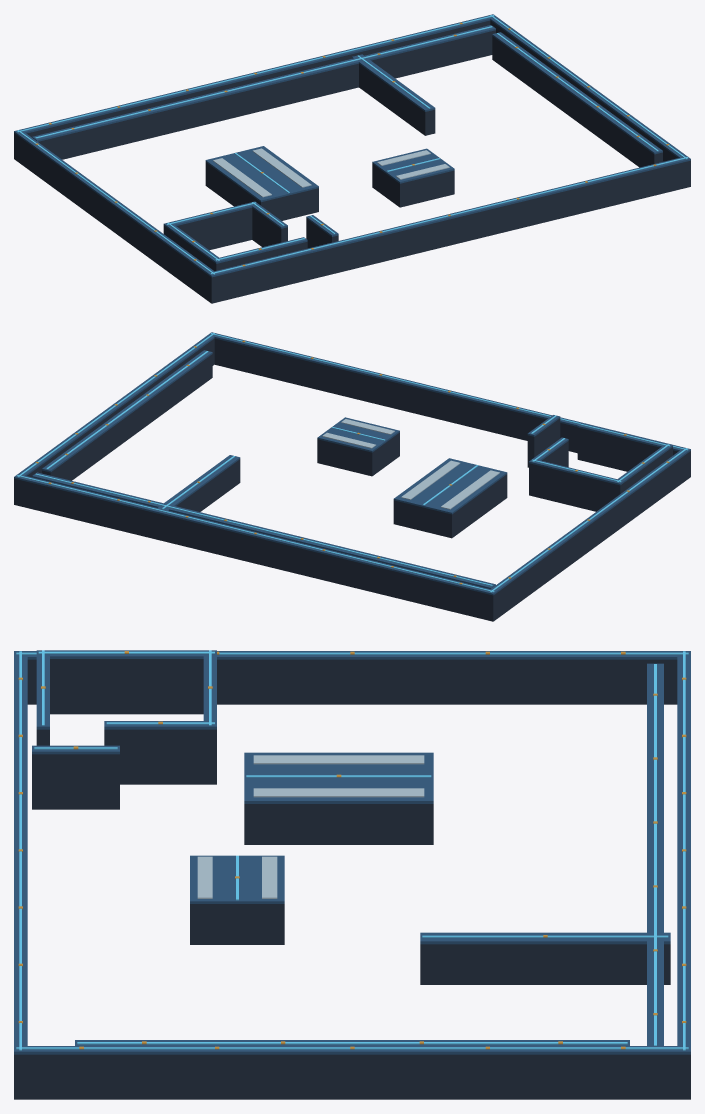
The model's file is campaign_dock.gltf.
3 views of the same model, one above another, from view 1: azimuth 30°, elevation 25°; view 2: azimuth 150°, elevation 25°; view 3: azimuth 270°, elevation 25° (orthographic). The views are drawn at different scales.
Parts seen in each view (by area): view 1: SOLID 1 border, SOLID 12 reflector, SOLID 2 border, SOLID 13 reflector, SOLID crown 12 reflector, SOLID crown 1 border, SOLID crown 0 border, SOLID 0 border, SOLID crown 9 cover, SOLID 9 cover, SOLID 10 cover, SOLID 5 cover (+19 smaller); view 2: SOLID 0 border, SOLID 1 border, SOLID 2 border, SOLID 13 reflector, SOLID crown 12 reflector, SOLID 9 cover, SOLID crown 0 border, SOLID 5 cover, SOLID crown 9 cover, SOLID 6 cover, SOLID crown 1 border, SOLID 10 cover (+17 smaller); view 3: SOLID 3 border, SOLID 2 border, SOLID 11 cover, SOLID 4 cover, SOLID 9 cover, SOLID crown 9 cover, SOLID 7 cover, SOLID crown 12 reflector, SOLID crown 3 border, SOLID 8 cover, Armor shoulder (×4), SOLID crown 0 border (+19 smaller).
Part boxes in pixels (bbox=[...]): SOLID 1 border: bbox=[207, 160, 690, 303]; SOLID 12 reflector: bbox=[38, 30, 495, 159]; SOLID 2 border: bbox=[14, 135, 218, 302]; SOLID 13 reflector: bbox=[492, 36, 662, 167]; SOLID crown 12 reflector: bbox=[32, 25, 495, 141]; SOLID crown 1 border: bbox=[207, 156, 690, 277]; SOLID crown 0 border: bbox=[14, 14, 496, 135]; SOLID 0 border: bbox=[14, 20, 490, 161]; SOLID crown 9 cover: bbox=[205, 146, 318, 201]; SOLID 9 cover: bbox=[205, 162, 318, 220]; SOLID 10 cover: bbox=[372, 164, 454, 207]; SOLID 5 cover: bbox=[163, 207, 252, 250]; SOLID 0 border: bbox=[14, 478, 497, 621]; SOLID 1 border: bbox=[214, 338, 690, 479]; SOLID 2 border: bbox=[486, 454, 686, 621]; SOLID 13 reflector: bbox=[42, 354, 212, 480]; SOLID crown 12 reflector: bbox=[32, 472, 495, 589]; SOLID 9 cover: bbox=[393, 474, 507, 538]; SOLID crown 0 border: bbox=[14, 474, 497, 595]; SOLID 5 cover: bbox=[529, 463, 623, 511]; SOLID crown 9 cover: bbox=[393, 458, 507, 514]; SOLID 6 cover: bbox=[577, 427, 672, 471]; SOLID crown 1 border: bbox=[208, 332, 690, 453]; SOLID 10 cover: bbox=[317, 432, 399, 476]; SOLID 3 border: bbox=[14, 1054, 690, 1099]; SOLID 2 border: bbox=[27, 659, 677, 704]; SOLID 11 cover: bbox=[420, 944, 670, 984]; SOLID 4 cover: bbox=[50, 659, 203, 714]; SOLID 9 cover: bbox=[244, 804, 433, 844]; SOLID crown 9 cover: bbox=[244, 752, 433, 803]; SOLID 7 cover: bbox=[104, 729, 216, 784]; SOLID crown 12 reflector: bbox=[647, 663, 663, 1045]; SOLID crown 3 border: bbox=[14, 1046, 690, 1054]; SOLID 8 cover: bbox=[32, 754, 119, 809]; Armor shoulder (×4): bbox=[197, 755, 424, 898]; SOLID crown 0 border: bbox=[677, 651, 690, 1054].
Bounding box in the file's own units: 21 × 1.45 × 15.
